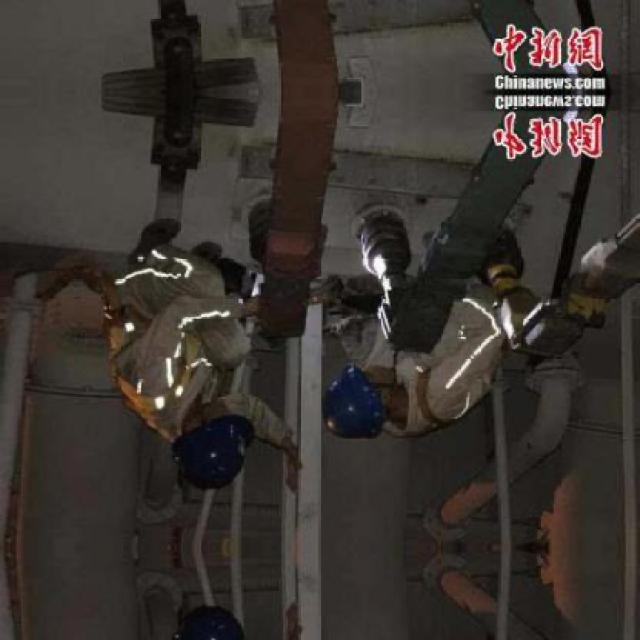con casco: (137, 389, 268, 497), (304, 364, 414, 458)
